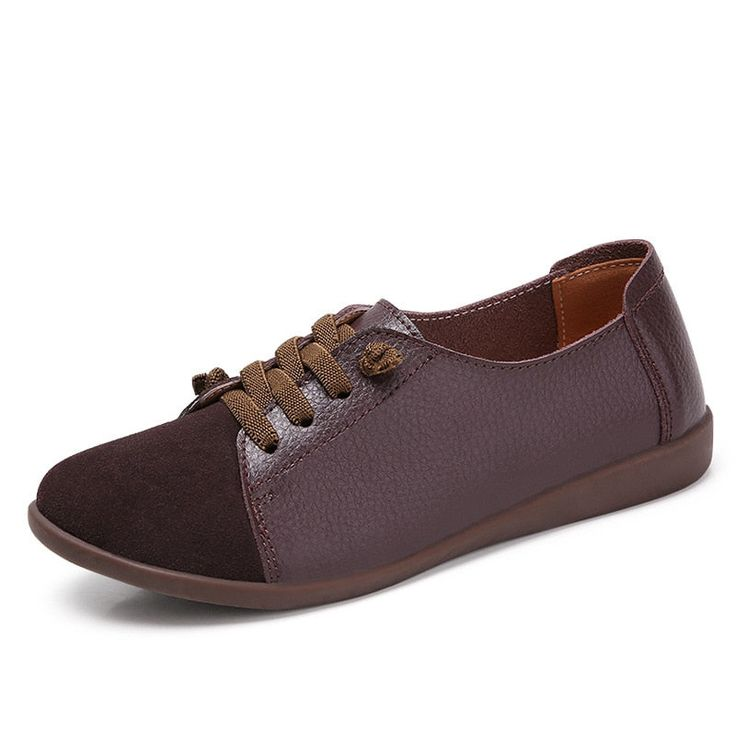gamuza: (36, 398, 266, 585)
